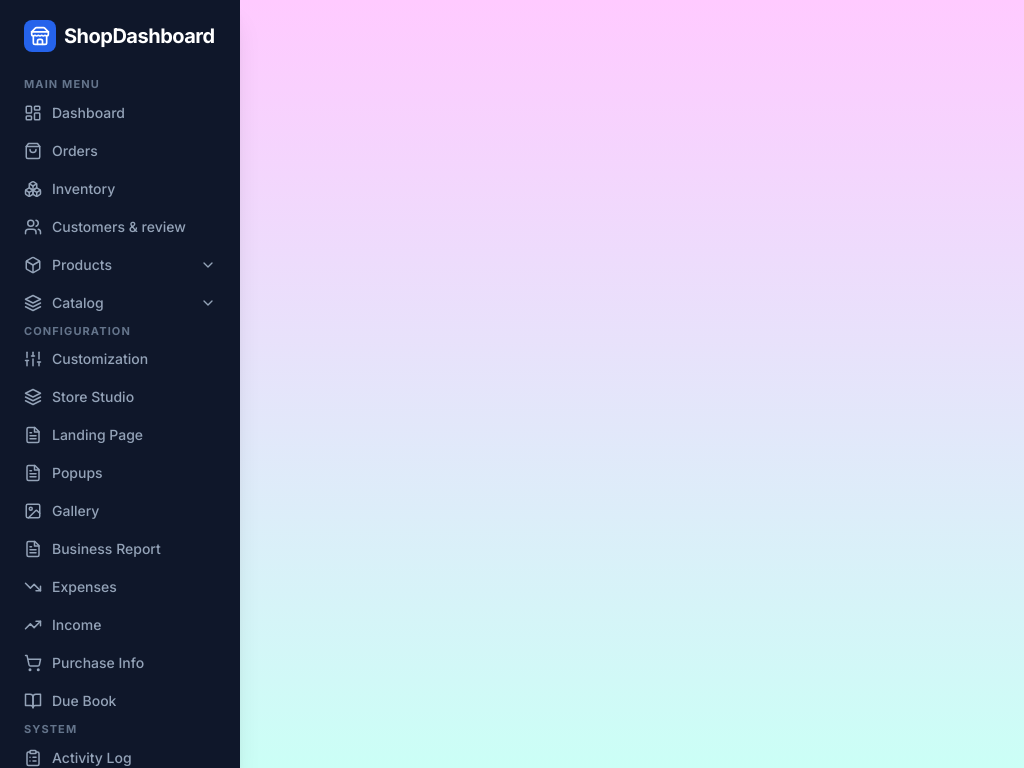
Test: AdminSidebar interactions › catalog accordion toggles visibility of category links
This screenshot has width=1024, height=768.
Expected: the text "Categories" is not shown
Click Catalog to open
Click the text "Catalog" at coordinates (78, 302), box [52,292,104,312]
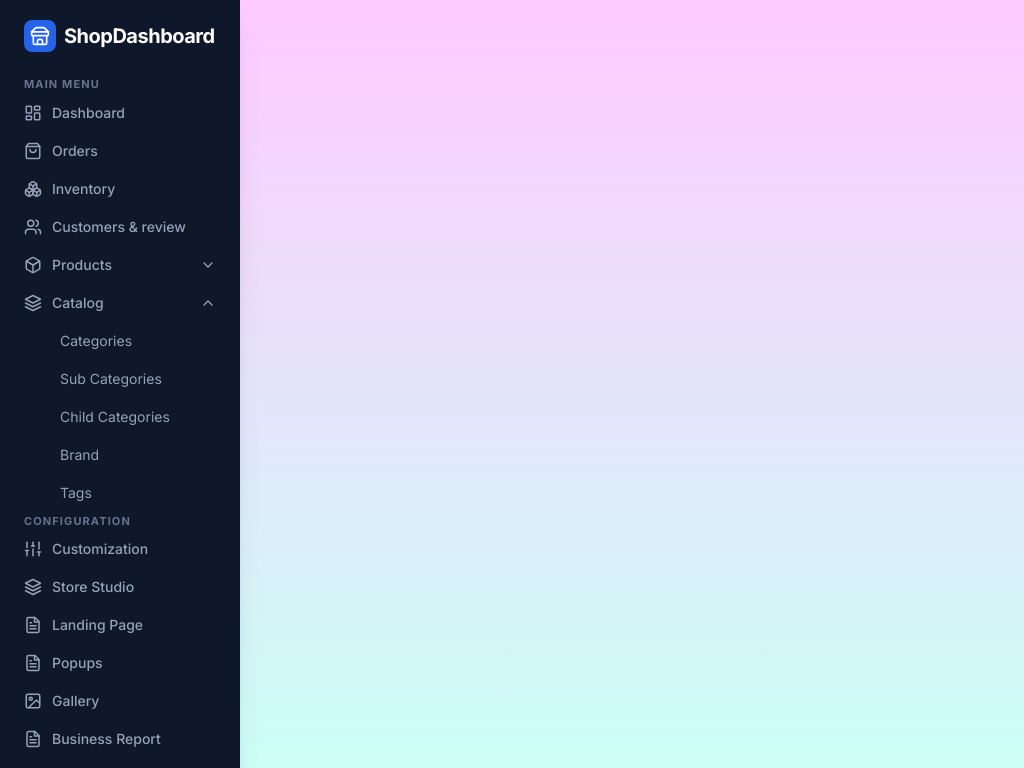
Expected: the text "Categories" is shown, [60,332,132,348]
Click again to close
Click the text "Catalog" at coordinates (78, 302), box [52,292,104,312]
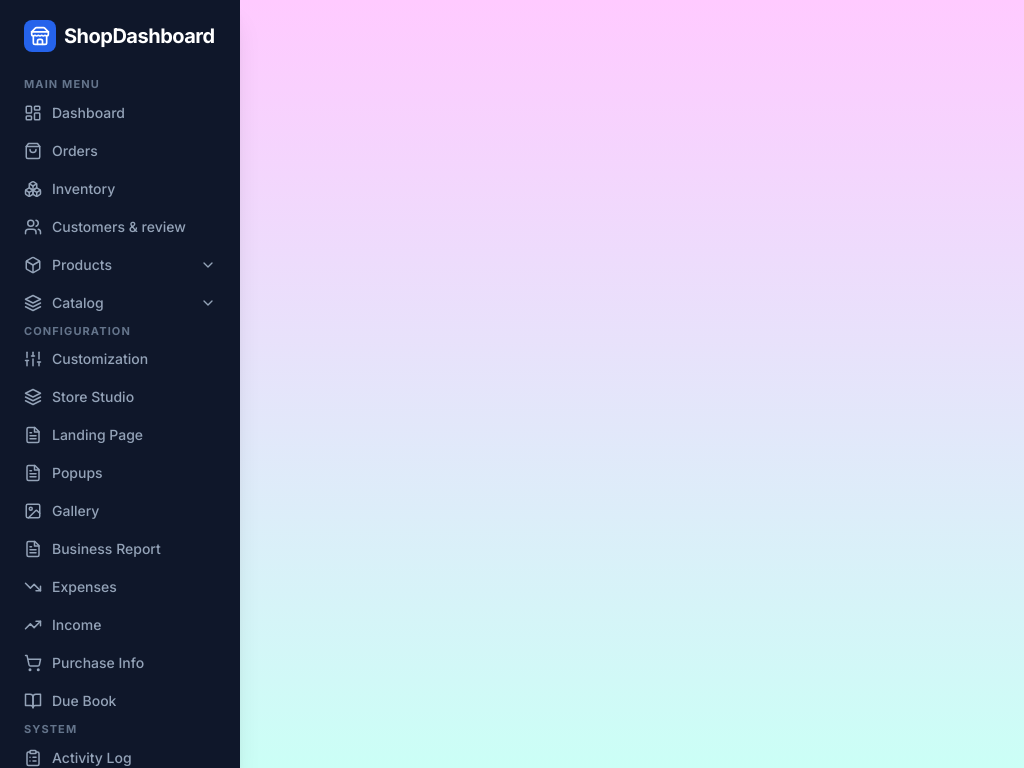
Expected: the text "Categories" is gone
